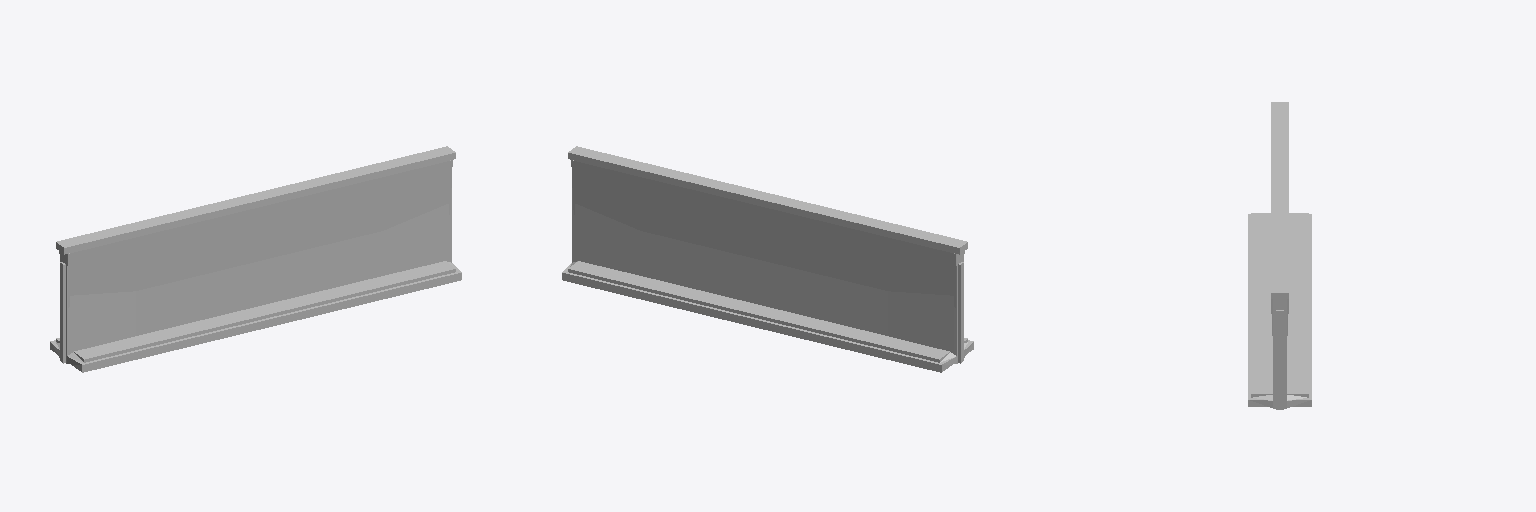
The model's file is ParedDivisora.obj.
3 views of the same model, side by side, from view 1: azimuth 30°, elevation 25°; view 2: azimuth 150°, elevation 25°; view 3: azimuth 270°, elevation 25° (orthographic).
Parts seen in each view (by area): view 1: polySurface2 EstanteOBJ:polySurface3, defaultHideFaceDataSet polySurfaceShape1HiddenFacesSet polySurfa; view 2: polySurface2 EstanteOBJ:polySurface3, defaultHideFaceDataSet polySurfaceShape1HiddenFacesSet polySurfa; view 3: polySurface2 EstanteOBJ:polySurface3.
Boxes of the visible parts, box(x1,y1,x2,y2) form: polySurface2 EstanteOBJ:polySurface3: box(50, 146, 461, 372); defaultHideFaceDataSet polySurfaceShape1HiddenFacesSet polySurfa: box(59, 160, 452, 353); polySurface2 EstanteOBJ:polySurface3: box(562, 146, 973, 372); defaultHideFaceDataSet polySurfaceShape1HiddenFacesSet polySurfa: box(571, 160, 964, 353); polySurface2 EstanteOBJ:polySurface3: box(1248, 102, 1311, 409).
Size of the model in its own units: 693 by 199 by 98.86.